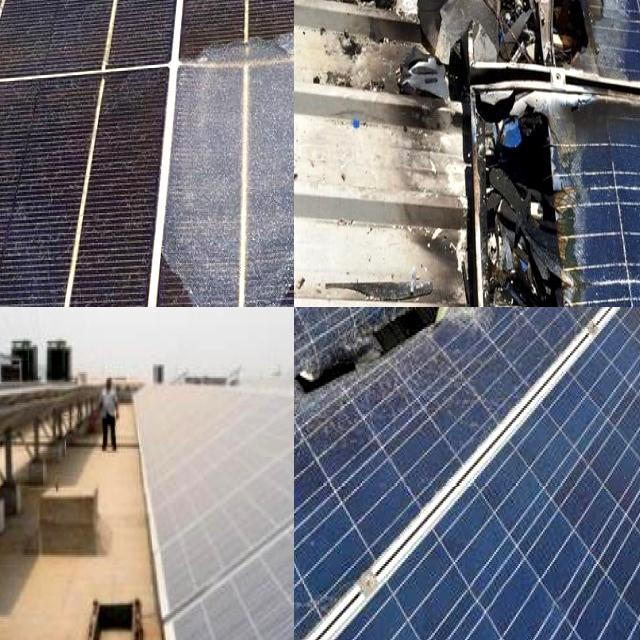dust: (162, 388, 294, 543)
hotspot: (294, 307, 500, 400)
shadow: (161, 18, 294, 307), (456, 0, 640, 165), (462, 90, 591, 307)
